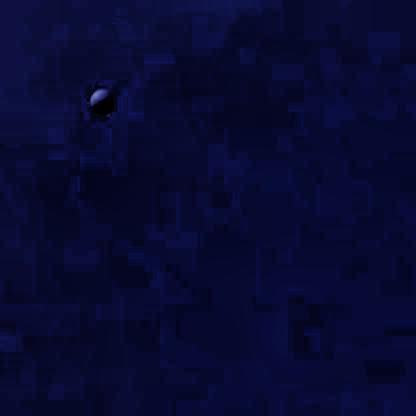golfball: (87, 80, 111, 110)
